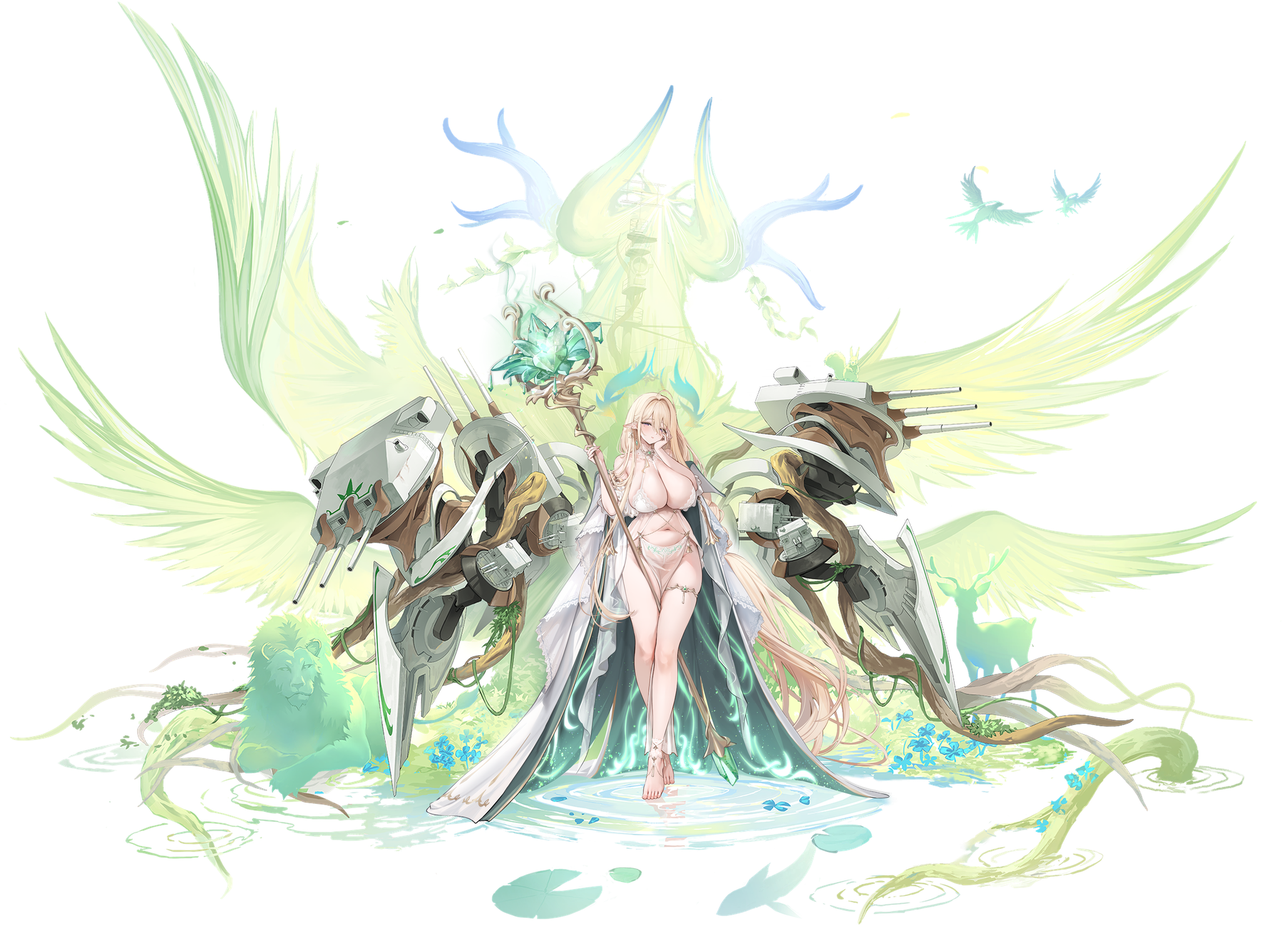person: (541, 359, 778, 833)
